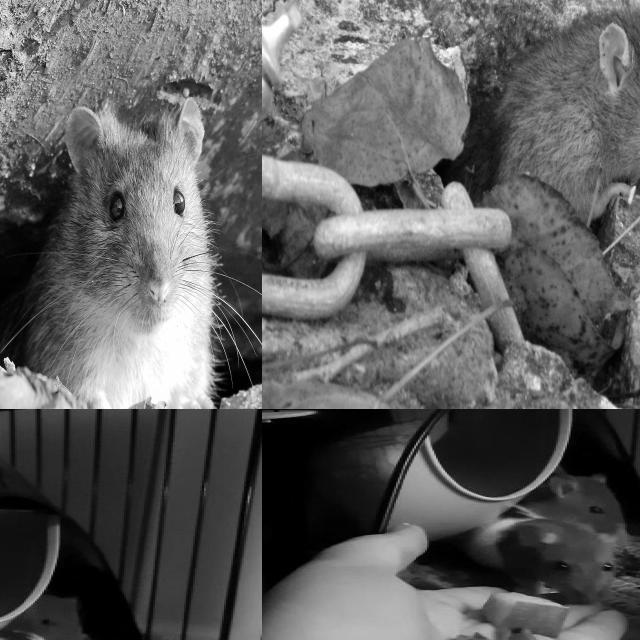rat: (29, 96, 213, 409), (492, 0, 640, 237), (456, 516, 617, 605), (514, 466, 640, 546), (0, 589, 90, 640)
